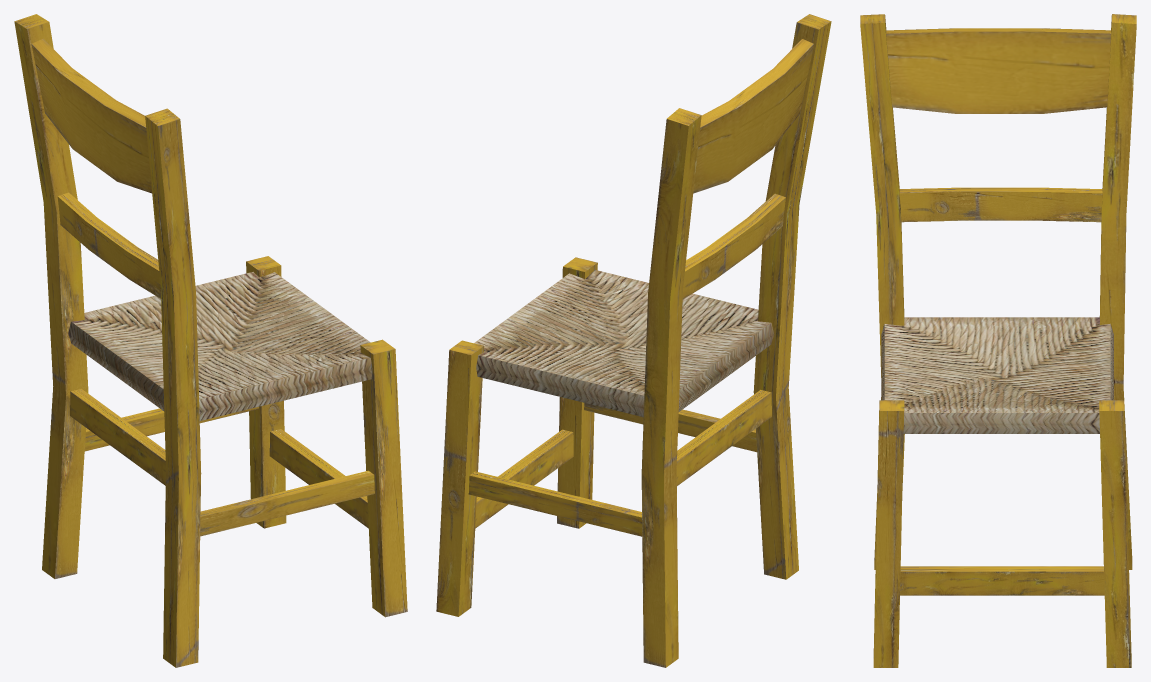
File: ChairCafeYellow01.obj
3 views of the same model, side by side, from view 1: azimuth 30°, elevation 25°; view 2: azimuth 150°, elevation 25°; view 3: azimuth 270°, elevation 25° (orthographic). The views are drawn at different scales.
Visible parts, largest first — view 1: Box03, OilTank01; view 2: Box03, OilTank01; view 3: Box03, OilTank01.
Boxes of the visible parts, x1,y1,x2,y2 form: Box03: (14,14,407,667); OilTank01: (68,272,372,420); Box03: (436,14,831,667); OilTank01: (474,270,774,416); Box03: (860,14,1136,667); OilTank01: (881,317,1113,433).
Size of the model in its own units: 0.466 by 0.9529 by 0.4463.
Materials: 2 (2 with a texture image).
